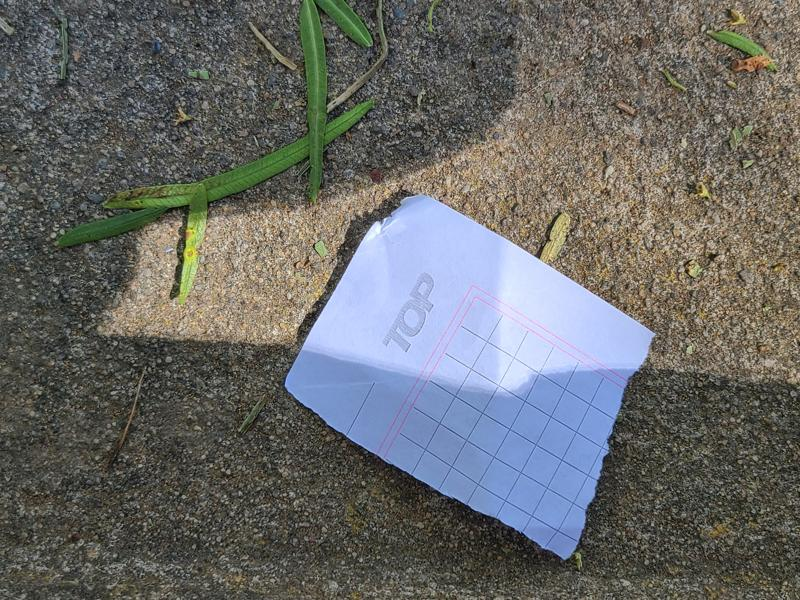papel: (283, 195, 655, 562)
